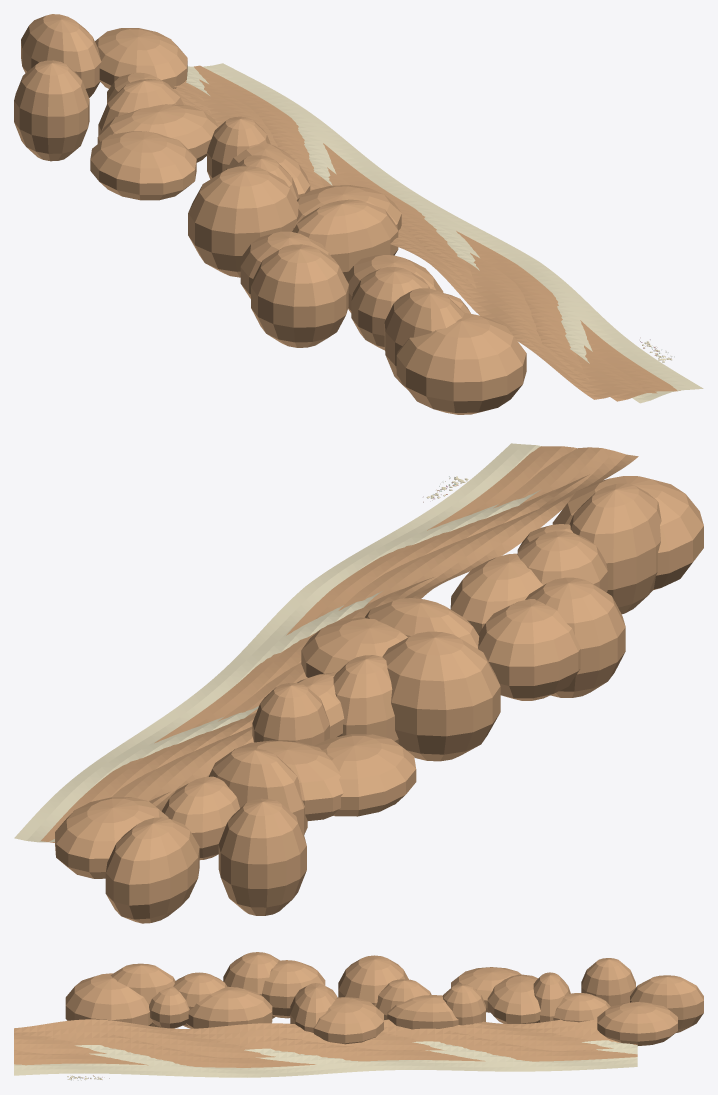
Rendered from region_red_sea.glb.
The picture shows the model from 3 angles, top to bottom: view 1: azimuth 30°, elevation 25°; view 2: azimuth 150°, elevation 25°; view 3: azimuth 270°, elevation 25°; orthographic projection. The views are drawn at different scales.
Parts seen in each view (by area): view 1: DesertShoreTerrace_0, DesertShoreTerrace_1, DesertHeadland_0, DesertShoreTerrace_2, DesertHeadland_9, DesertHeadland_5, DesertHeadland_17, DesertHeadland_13, DesertHeadland_7, DesertHeadland_18, DesertHeadland_19, DesertHeadland_14 (+9 smaller); view 2: DesertShoreTerrace_0, DesertShoreTerrace_2, DesertShoreTerrace_1, DesertHeadland_9, DesertHeadland_17, DesertHeadland_19, DesertHeadland_6, DesertHeadland_1, DesertHeadland_5, DesertHeadland_13, DesertHeadland_18, DesertHeadland_0 (+10 smaller); view 3: DesertShoreTerrace_2, DesertShoreTerrace_1, DesertShoreTerrace_0, DesertHeadland_0, DesertHeadland_18, DesertHeadland_4, DesertHeadland_8, DesertHeadland_19, DesertHeadland_9, DesertHeadland_14, DesertHeadland_6, DesertHeadland_17 (+11 smaller).
Part boxes in pixels (x1,y1,x2,y2): DesertShoreTerrace_0: (186,63,703,403); DesertShoreTerrace_1: (174,65,680,401); DesertHeadland_0: (396,312,526,414); DesertShoreTerrace_2: (174,79,657,399); DesertHeadland_9: (188,166,298,277); DesertHeadland_5: (251,244,348,347); DesertHeadland_17: (14,60,89,161); DesertHeadland_13: (90,131,196,200); DesertHeadland_7: (292,199,398,275); DesertHeadland_18: (95,28,187,88); DesertHeadland_19: (21,14,101,97); DesertHeadland_14: (97,104,218,162); DesertShoreTerrace_0: (14,443,541,842); DesertShoreTerrace_2: (111,447,638,810); DesertShoreTerrace_1: (41,446,589,842); DesertHeadland_9: (382,631,500,761); DesertHeadland_17: (218,798,306,915); DesertHeadland_19: (105,817,199,923); DesertHeadland_6: (478,599,580,700); DesertHeadland_1: (569,483,661,614); DesertHeadland_5: (525,577,625,697); DesertHeadland_13: (314,734,416,816); DesertHeadland_18: (55,797,168,878); DesertHeadland_0: (552,476,703,589); DesertShoreTerrace_2: (14,1018,613,1057); DesertShoreTerrace_1: (14,1028,637,1067); DesertShoreTerrace_0: (14,1040,637,1077); DesertHeadland_0: (65,973,152,1025); DesertHeadland_18: (597,1002,677,1045); DesertHeadland_4: (186,986,272,1028); DesertHeadland_8: (313,996,383,1044); DesertHeadland_19: (630,975,703,1032); DesertHeadland_9: (338,955,408,1006); DesertHeadland_14: (487,974,540,1023); DesertHeadland_6: (262,960,325,1018); DesertHeadland_17: (581,958,635,1006).
Size of the model in its own units: 343 by 131 by 1062.
